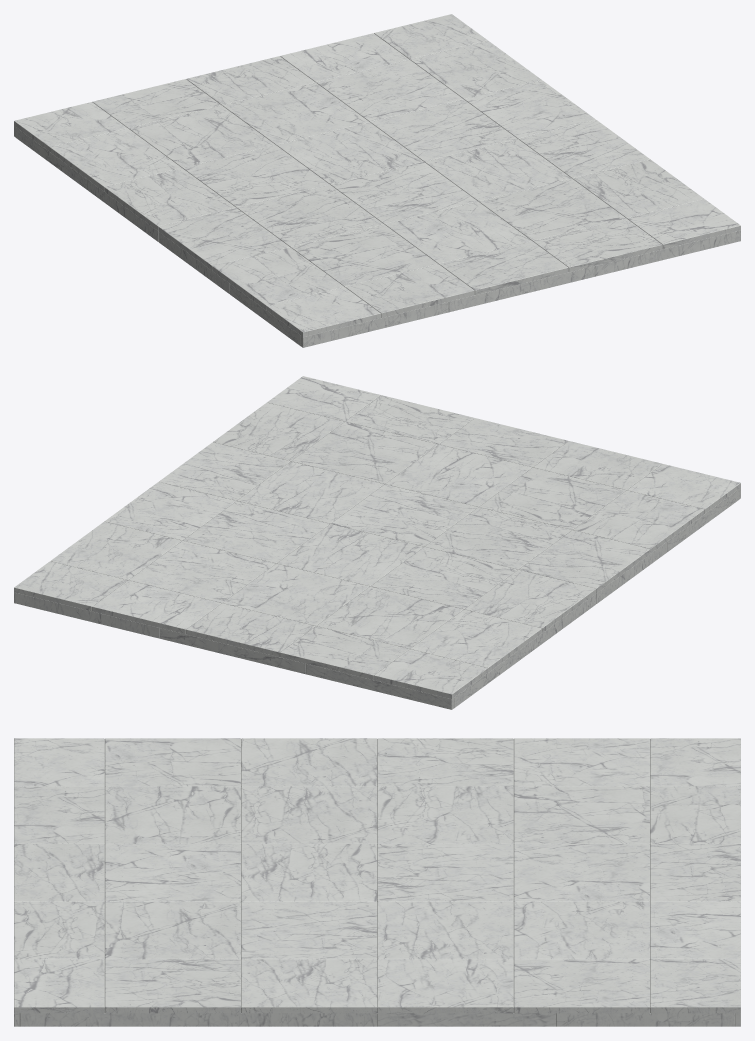
Rendered from floor-marble-wide.glb.
The picture shows the model from 3 angles, top to bottom: view 1: azimuth 30°, elevation 25°; view 2: azimuth 150°, elevation 25°; view 3: azimuth 270°, elevation 25°; orthographic projection. The views are drawn at different scales.
Visible parts, largest first — view 1: Stone_field_marble, Stone_edge_marble; view 2: Stone_field_marble, Stone_edge_marble; view 3: Stone_field_marble, Stone_edge_marble, Joint_and_bedding_marble.
Boxes of the visible parts, x1,y1,x2,y2 form: Stone_field_marble: [14, 14, 740, 336]; Stone_edge_marble: [14, 126, 740, 347]; Stone_field_marble: [14, 376, 740, 698]; Stone_edge_marble: [14, 488, 740, 709]; Stone_field_marble: [14, 738, 740, 1013]; Stone_edge_marble: [14, 1013, 740, 1026]; Joint_and_bedding_marble: [19, 739, 735, 1026].
Size of the model in its own units: 2.8 by 0.096 by 3.2.
3 materials, 2 textured.
